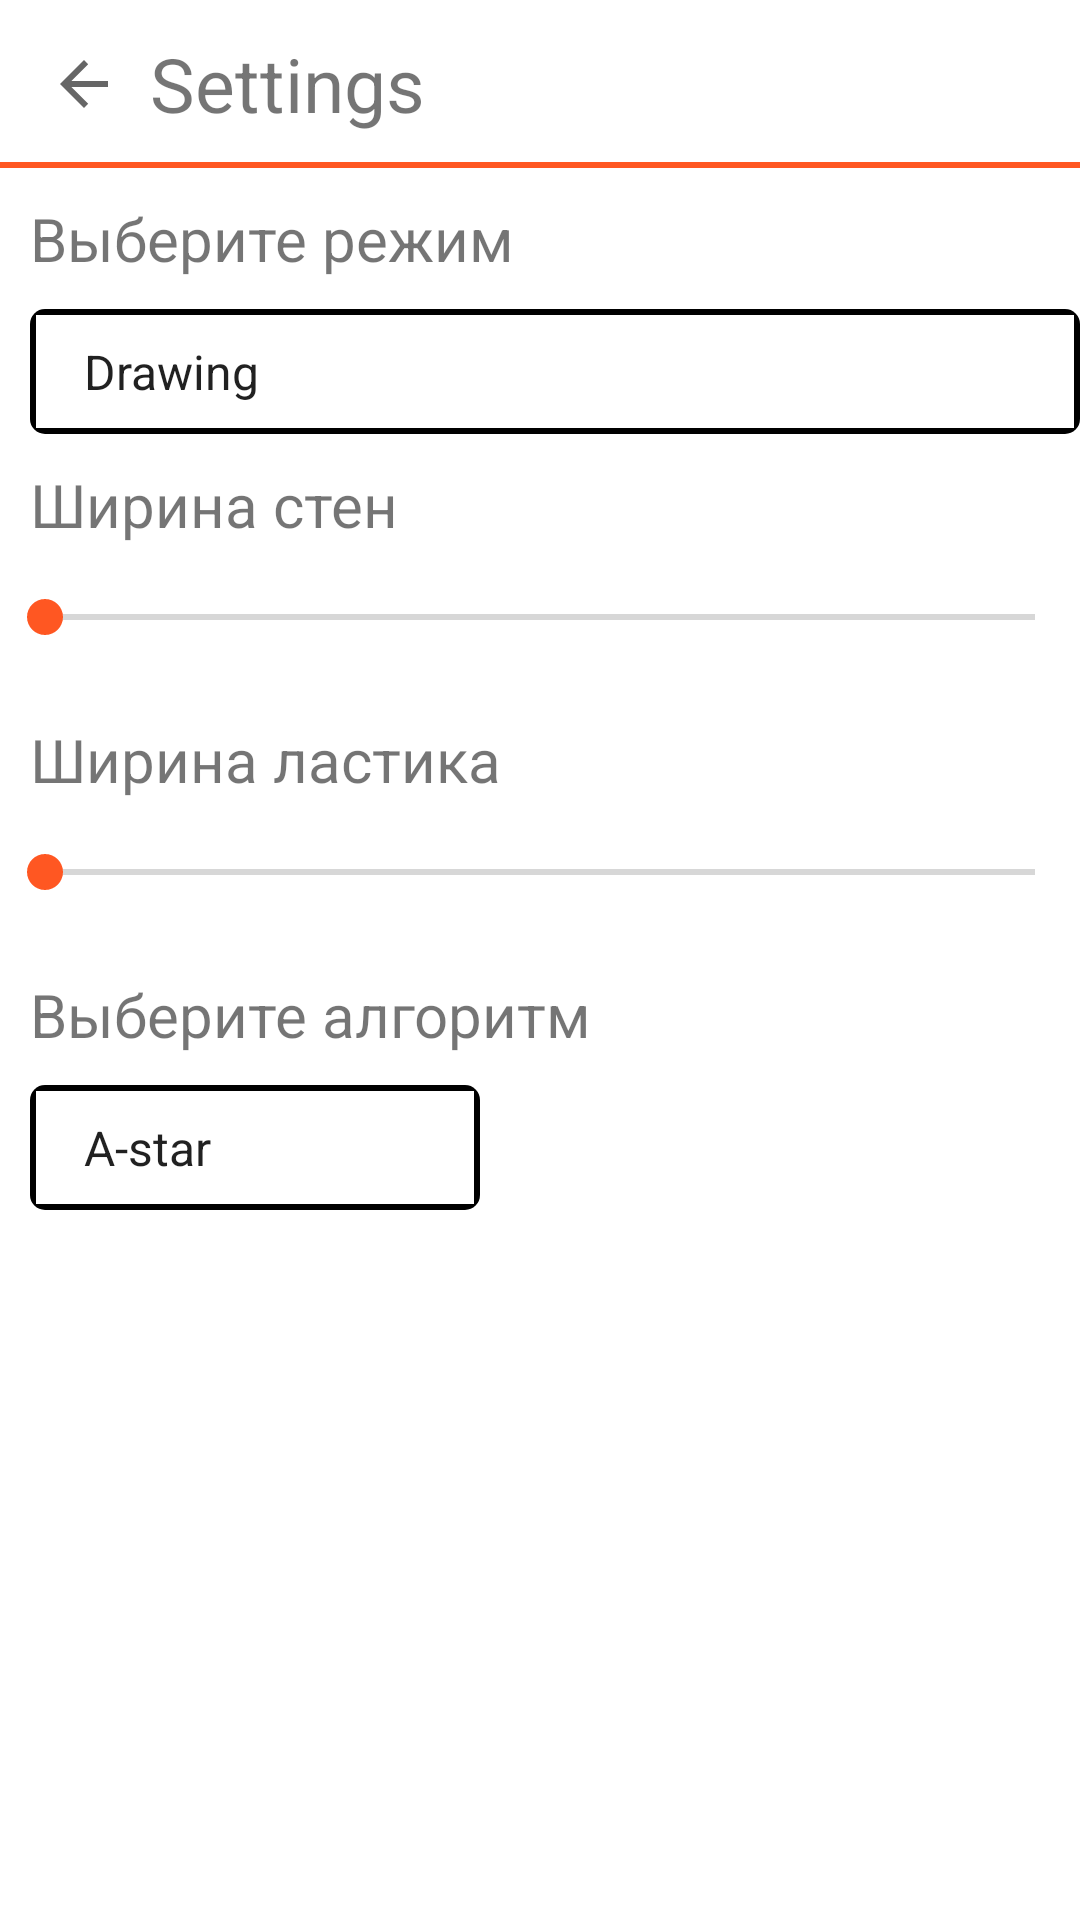

Where icons sit on this 1080*1920 app screen, as {"x1": x1, "y1": y1, "x2": x2, "y2": y2}:
back button: {"x1": 60, "y1": 60, "x2": 108, "y2": 108}
